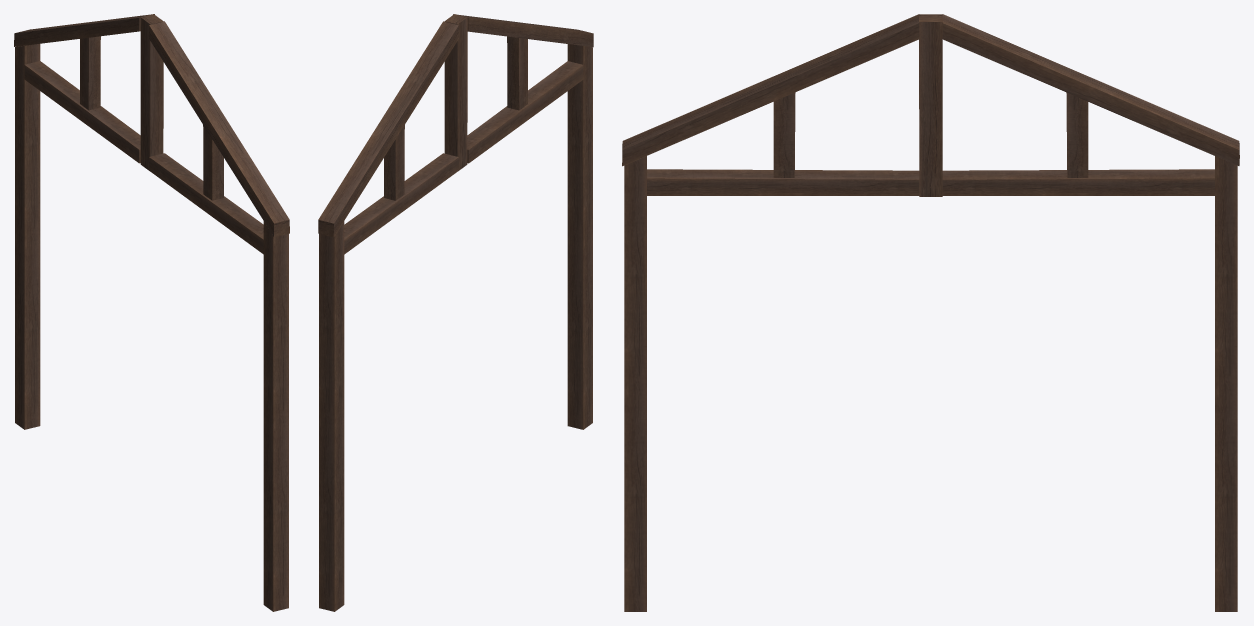
Rendered from yane_frame_1t_1f_5.fbx.
3 renders of one model, left to right at view 1: azimuth 30°, elevation 25°; view 2: azimuth 150°, elevation 25°; view 3: azimuth 270°, elevation 25°, orthographic. The views are drawn at different scales.
Visible parts, largest first — view 1: yane_frame_1t_1f_5; view 2: yane_frame_1t_1f_5; view 3: yane_frame_1t_1f_5.
Part boxes in pixels (x1=…): yane_frame_1t_1f_5: x1=14, y1=14, x2=289, y2=611; yane_frame_1t_1f_5: x1=318, y1=14, x2=593, y2=611; yane_frame_1t_1f_5: x1=622, y1=14, x2=1239, y2=611.
Bounding box in the file's own units: 18.31 × 554 × 526.
